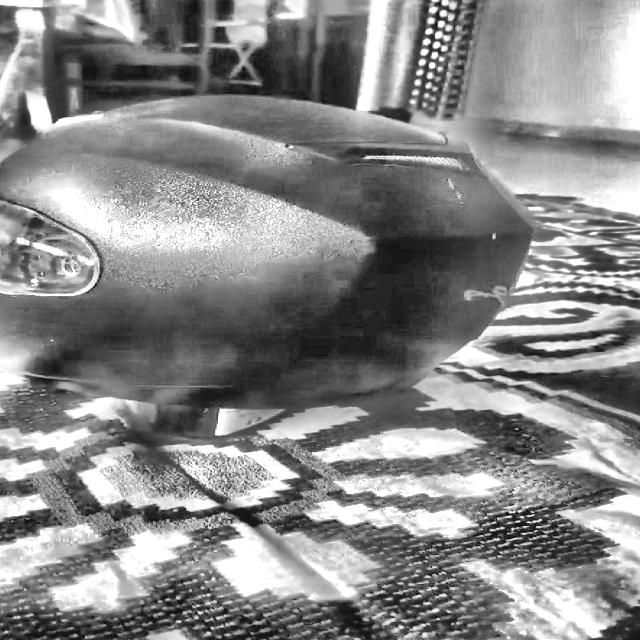Helmet: (0, 78, 536, 430)
